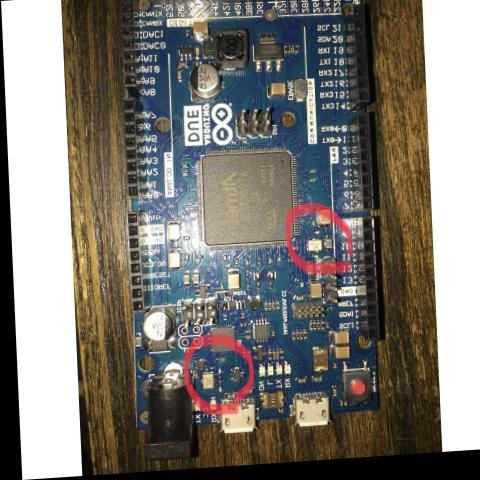Arduino-Due: (112, 0, 401, 470)
